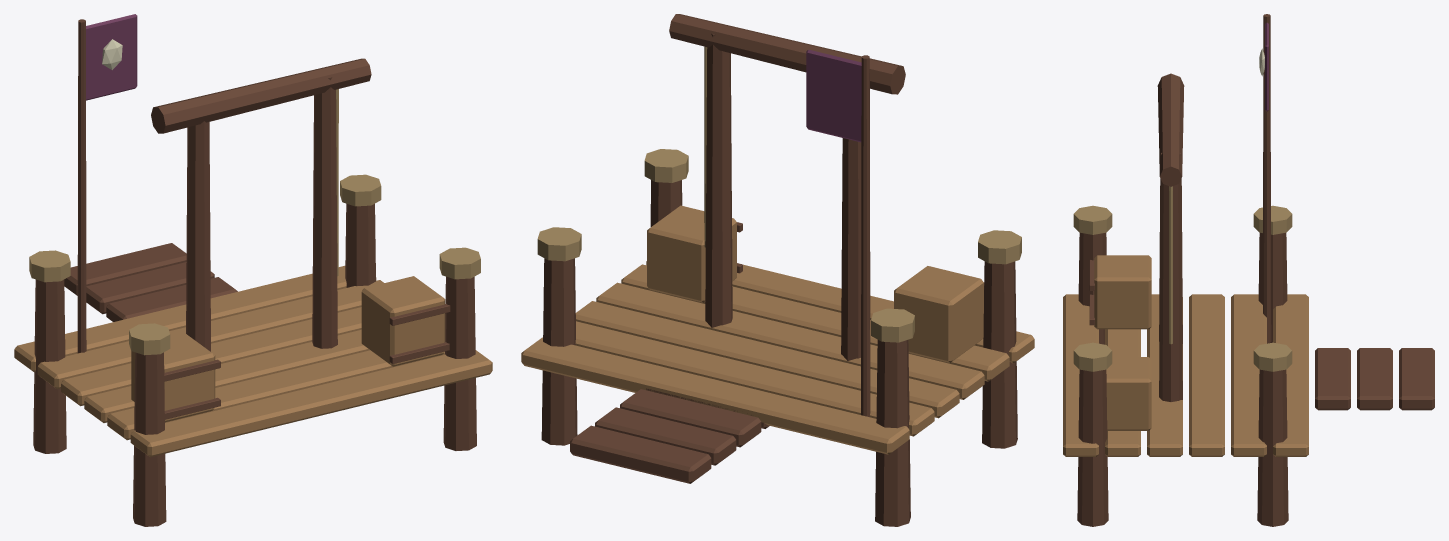
Rendered from goblin_port.glb.
The picture shows the model from 3 angles, left to right: view 1: azimuth 30°, elevation 25°; view 2: azimuth 150°, elevation 25°; view 3: azimuth 270°, elevation 25°; orthographic projection. The views are drawn at different scales.
Visible parts, largest first — view 1: Geometry; view 2: Geometry; view 3: Geometry.
Boxes of the visible parts, x1,y1,x2,y2 form: Geometry: (14,14,492,526); Geometry: (521,14,1034,526); Geometry: (1063,14,1434,526).
Size of the model in its own units: 3.02 by 3.5 by 3.1.
